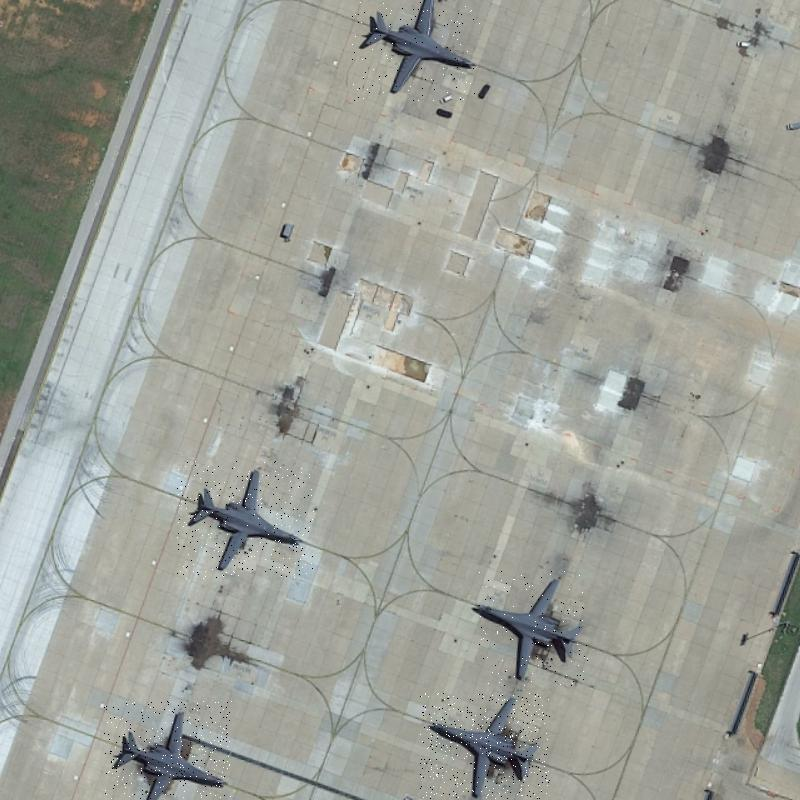A10: (177, 461, 314, 579), (420, 693, 550, 799), (475, 571, 588, 686), (352, 2, 480, 101), (104, 701, 232, 799)
